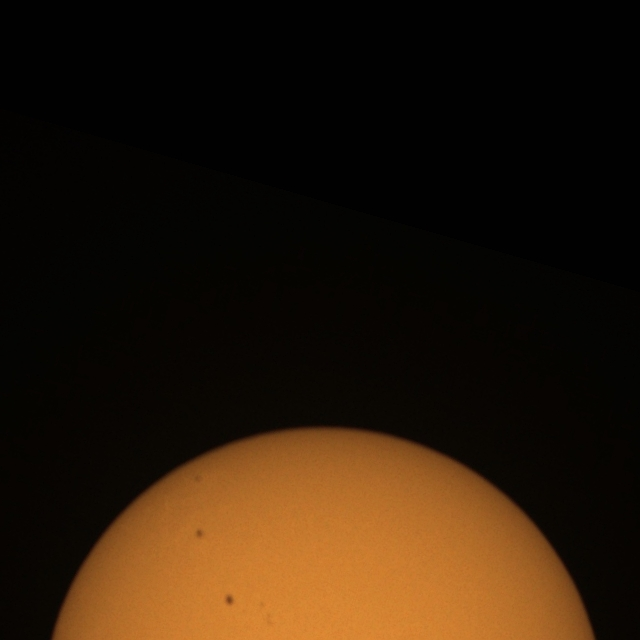sunspot: (223, 593, 235, 607), (194, 528, 205, 540)
